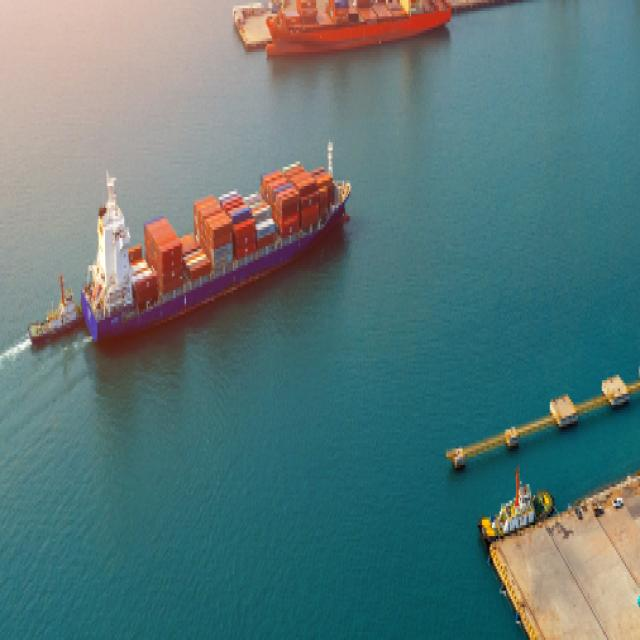cargoship: (83, 109, 352, 354), (25, 276, 80, 352)
